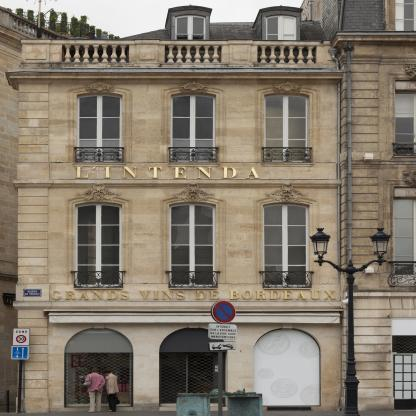Building Outline: (5, 4, 342, 414)
Cornice: (168, 182, 216, 202), (263, 182, 310, 202), (75, 182, 123, 201), (83, 78, 116, 93), (177, 78, 210, 93), (271, 78, 303, 93), (168, 4, 213, 12), (259, 5, 304, 13), (188, 322, 200, 328), (93, 323, 105, 329)
Deco: (50, 290, 336, 301), (75, 166, 260, 179)
Door: (253, 328, 322, 408)
Facade: (5, 4, 343, 413)
Floor: (18, 189, 342, 301), (18, 85, 342, 179)
Floor Slab: (18, 73, 342, 86), (18, 179, 342, 189), (18, 301, 342, 310)
Ground Floor: (18, 310, 342, 413)
Molding: (7, 73, 342, 85), (13, 179, 342, 189), (13, 301, 342, 310)
Roof: (114, 4, 328, 41)
Shop: (64, 328, 133, 408), (159, 328, 228, 408)
Top Floor: (18, 5, 342, 73)
Window: (262, 202, 310, 288), (74, 202, 122, 288), (168, 202, 216, 288), (77, 92, 123, 163), (264, 92, 309, 163), (171, 92, 216, 163), (266, 14, 297, 40), (175, 14, 206, 40)
